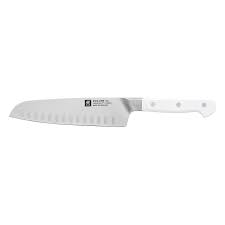knife: (7, 96, 217, 129)
